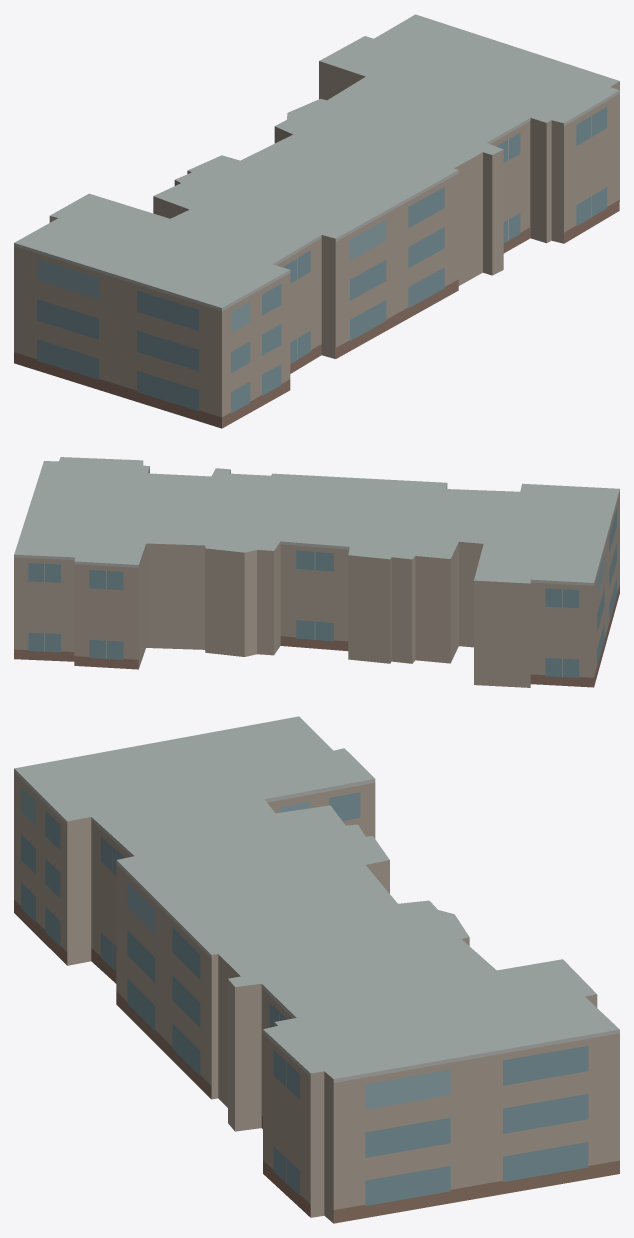
File: survey-upis-32863304.glb
3 renders of one model, top to bottom at view 1: azimuth 30°, elevation 25°; view 2: azimuth 150°, elevation 25°; view 3: azimuth 270°, elevation 25°, orthographic. The views are drawn at different scales.
Visible parts, largest first — view 1: survey-upis-32863304.tmp; view 2: survey-upis-32863304.tmp; view 3: survey-upis-32863304.tmp.
Part boxes in pixels (box(x1,y1,x2,y2)): survey-upis-32863304.tmp: box(14, 14, 619, 428); survey-upis-32863304.tmp: box(14, 457, 619, 687); survey-upis-32863304.tmp: box(14, 716, 619, 1223).
Bounding box in the file's own units: 49.31 × 9.15 × 34.79.
